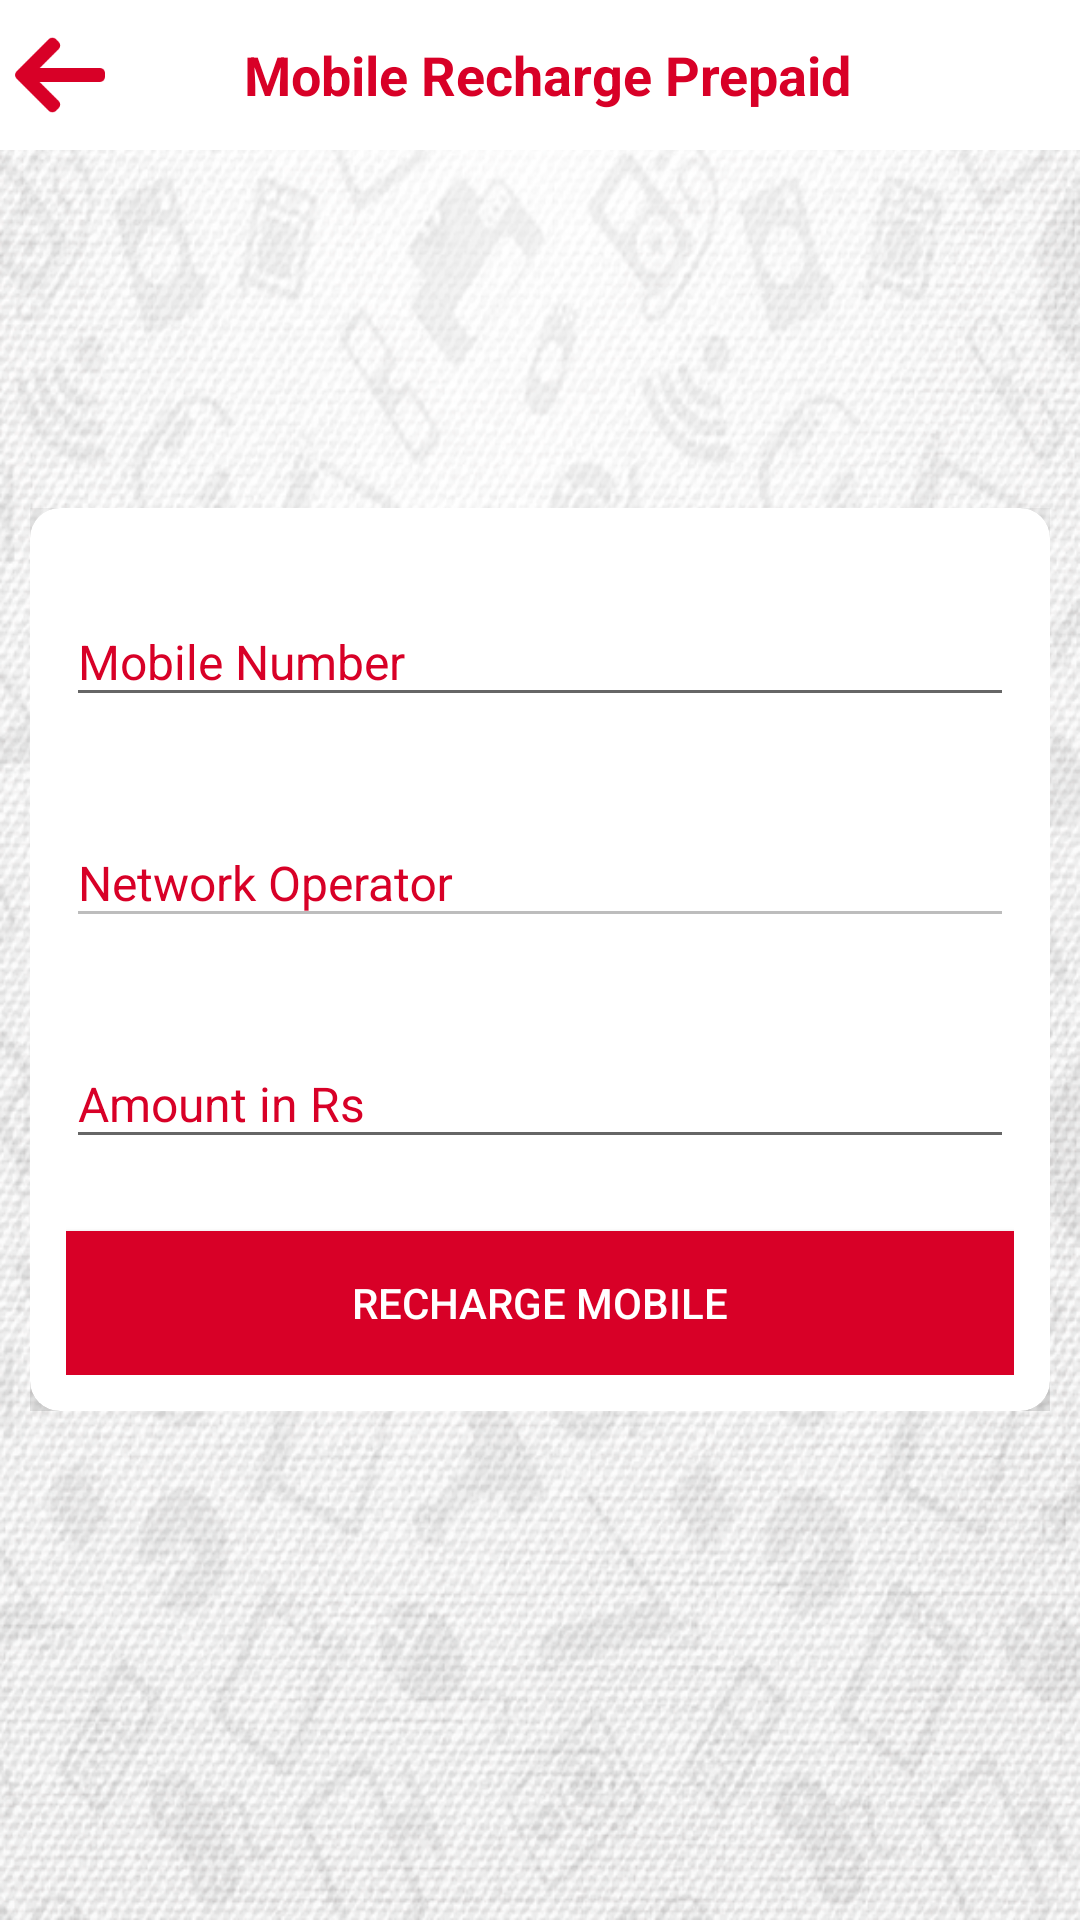

Screen size 1080px x 1920px. Icon name, then its center in pixels as [x,y]:
back: [60,75]
